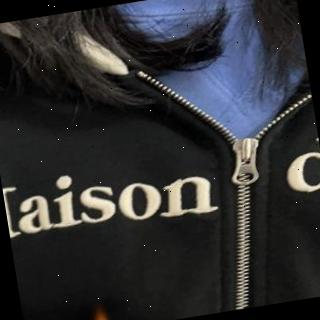fire: (88, 310, 119, 320)
